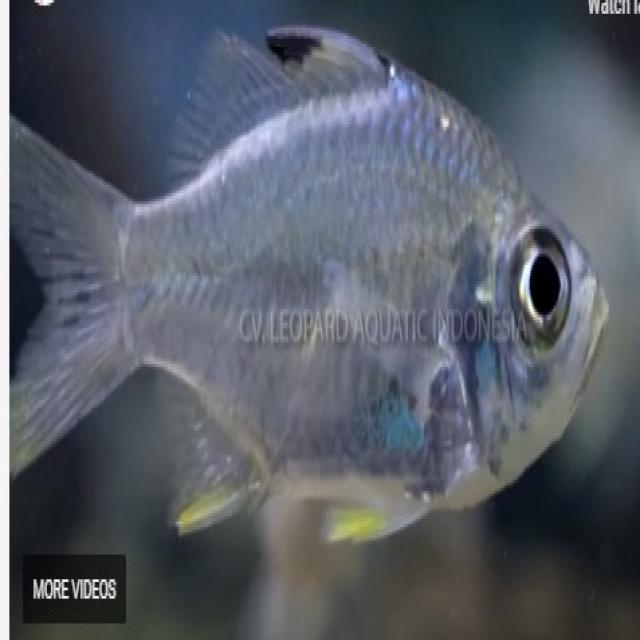Glass-Perchlet: (2, 41, 610, 602)
